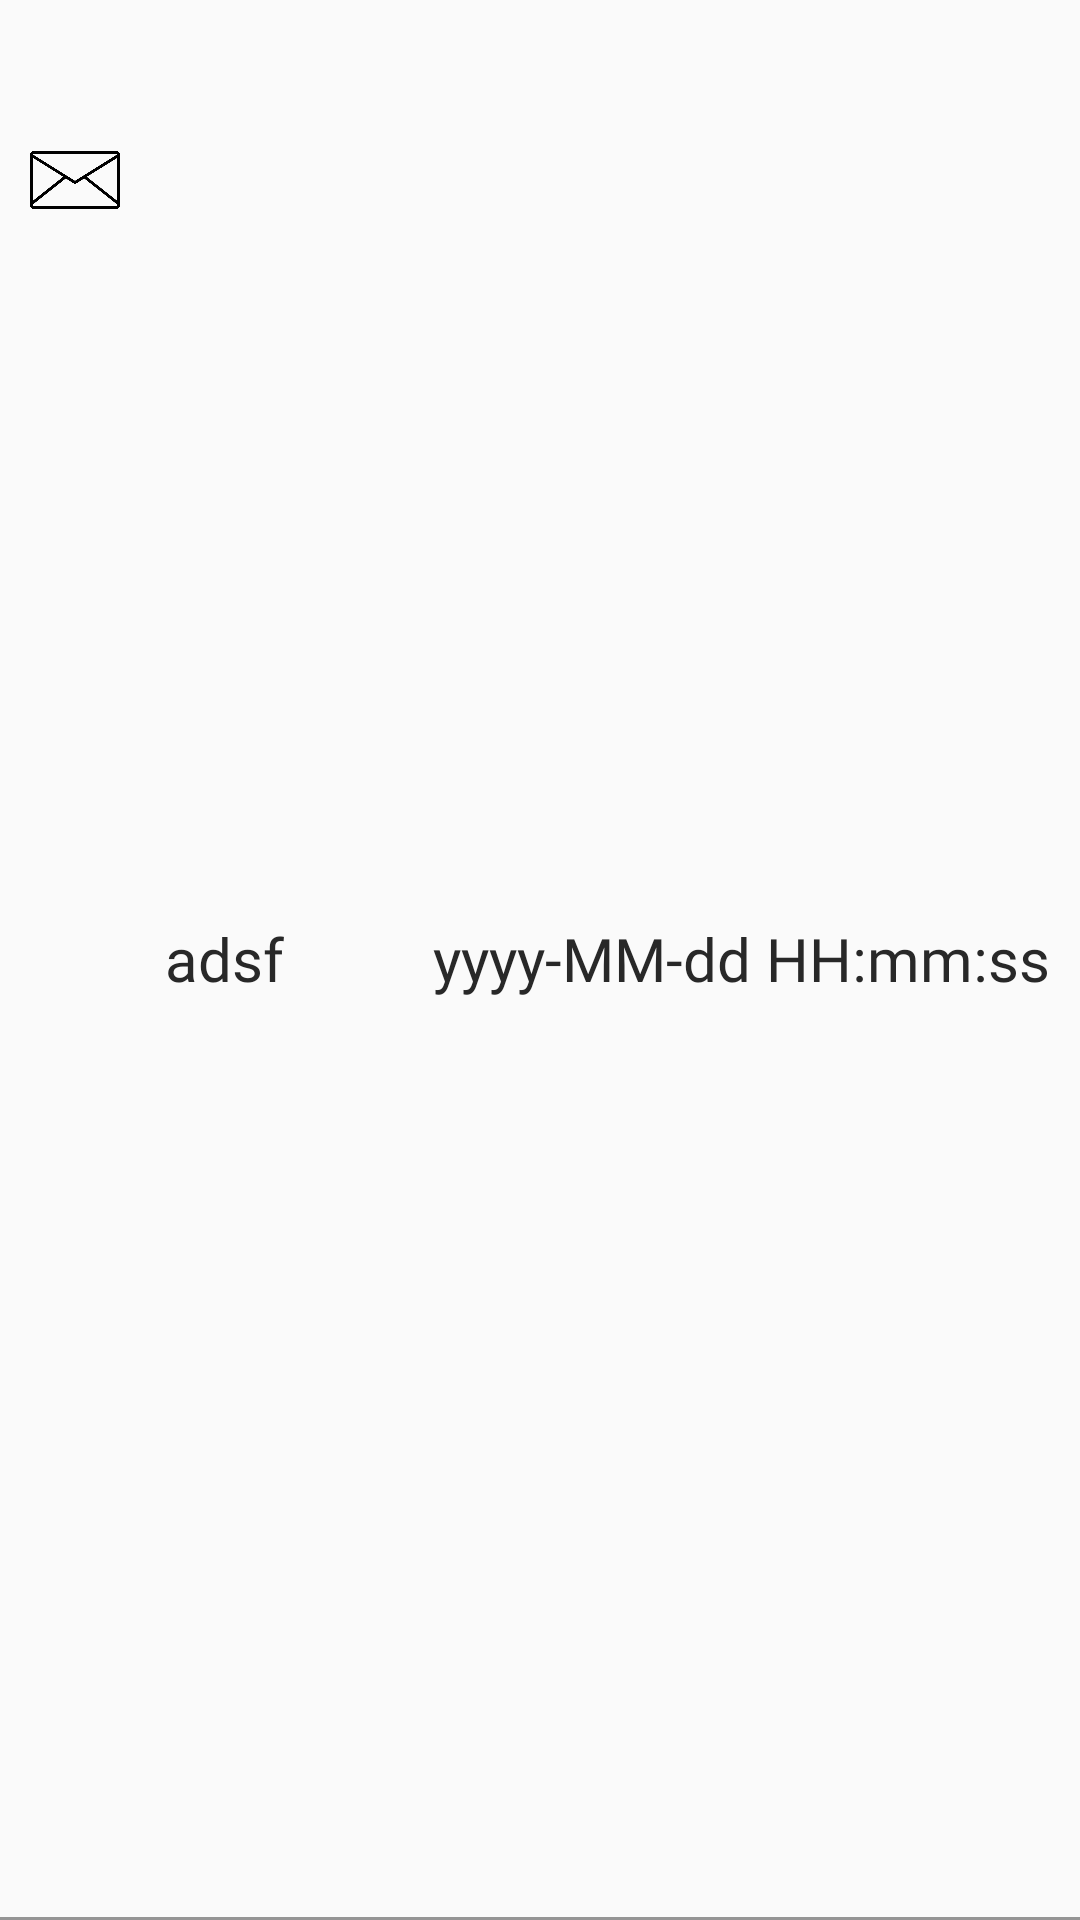

Named icons in this screenshot (1080px×1920px) and their bounding boxes, (left=x1, top=y1, right=x2, bottom=y2):
mail: (left=30, top=151, right=120, bottom=209)
